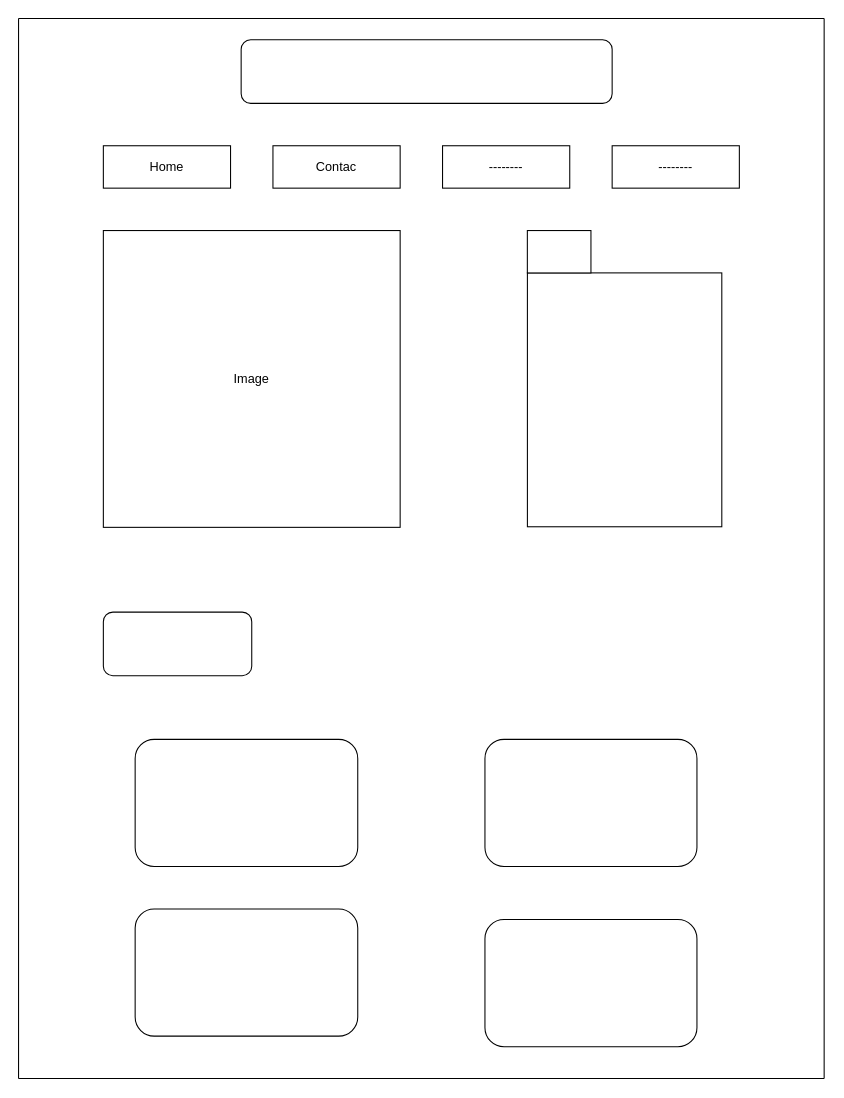
The diagram is 844 pixels wide and 1098 high, and some of its shapes have lost their labels. Each missing label, with the box of its shape:
Hime Page: (240, 39, 612, 103)
sumarry: (526, 229, 591, 273)
